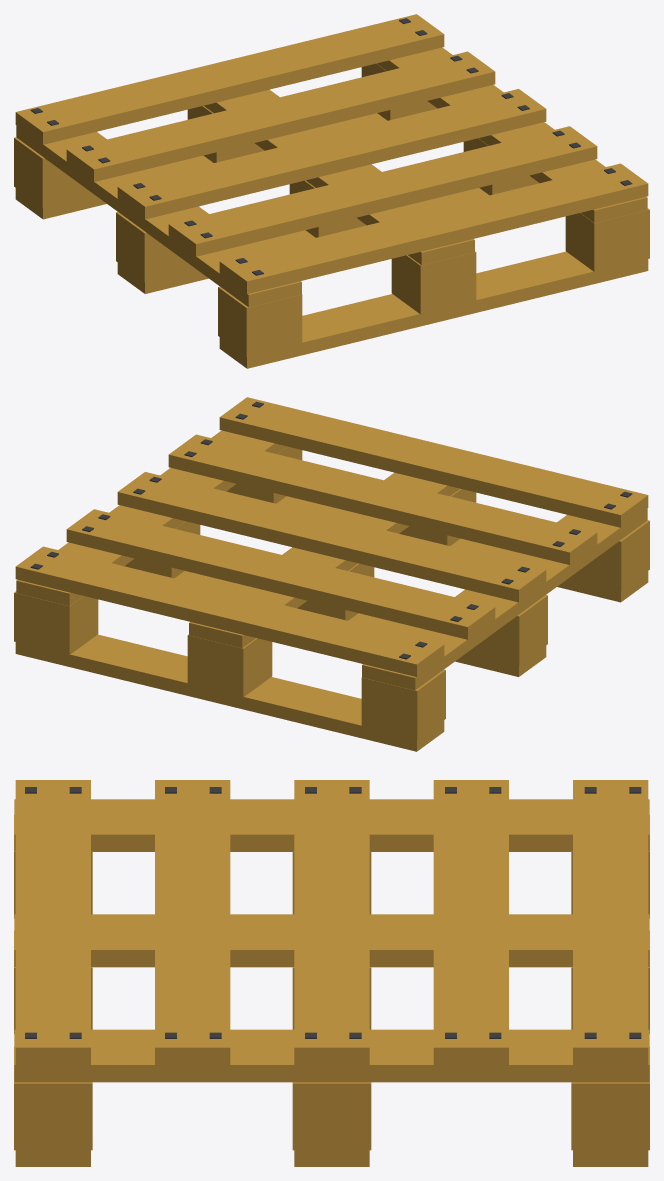
Rendered from Palette.001.gltf.
3 views of the same model, one above another, from view 1: azimuth 30°, elevation 25°; view 2: azimuth 150°, elevation 25°; view 3: azimuth 270°, elevation 25° (orthographic). The views are drawn at different scales.
Visible parts, largest first — view 1: Palette.001; view 2: Palette.001; view 3: Palette.001.
Boxes of the visible parts, x1,y1,x2,y2 form: Palette.001: (14, 14, 649, 368); Palette.001: (14, 397, 649, 751); Palette.001: (14, 780, 649, 1166).
Bounding box in the file's own units: 1 × 0.2094 × 1.
